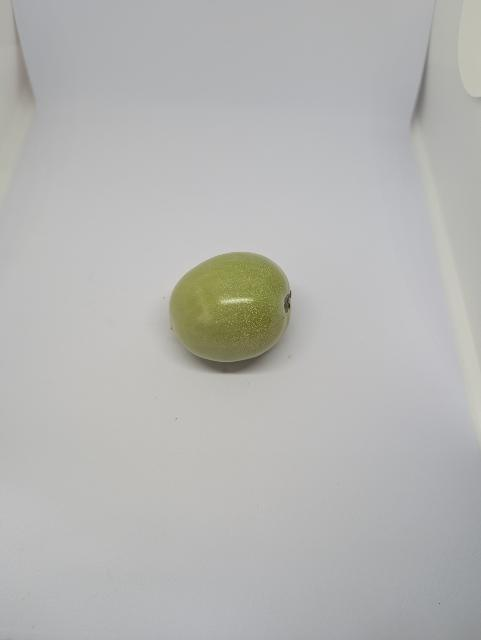green: (167, 248, 295, 366)
